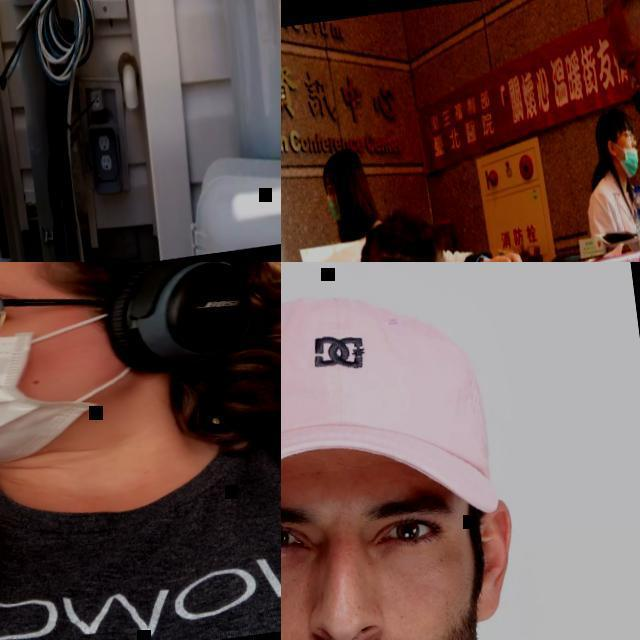no_helmet: (281, 282, 503, 550), (0, 262, 239, 298), (358, 207, 446, 262), (595, 0, 640, 48), (318, 148, 364, 188), (590, 106, 632, 139)
